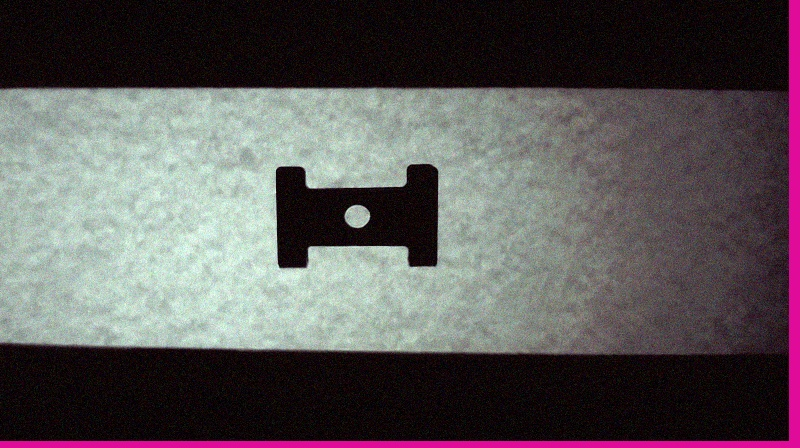O002: (270, 160, 443, 269)
